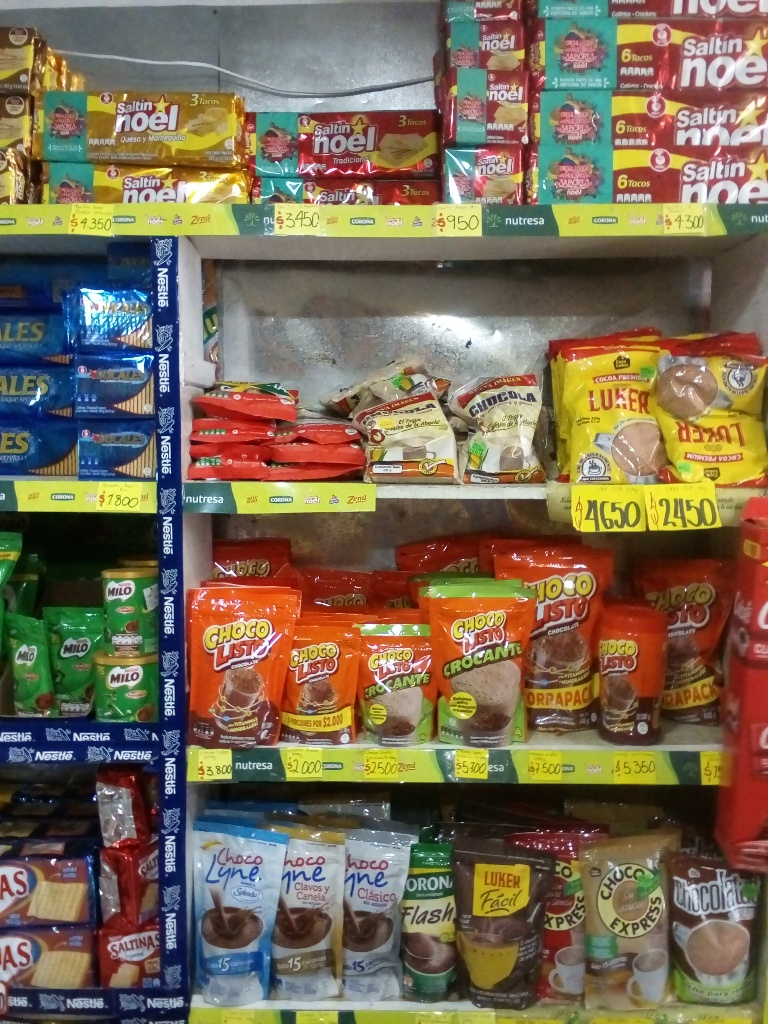COL0170102DYP10000: (359, 622, 441, 744)
COL0170102DYP25000: (432, 581, 536, 743)
COL0170103DYP10000: (277, 615, 362, 745)
COL0170103DYP20000: (188, 583, 294, 747)
COL0170103DYP40000: (494, 531, 611, 742)
COL0170103TRR30000: (602, 598, 675, 745)
COL0170203DYP10000: (3, 611, 58, 719)
COL0170203LAT20000: (93, 566, 157, 654)
COL0170203LAT40000: (86, 656, 154, 725)
